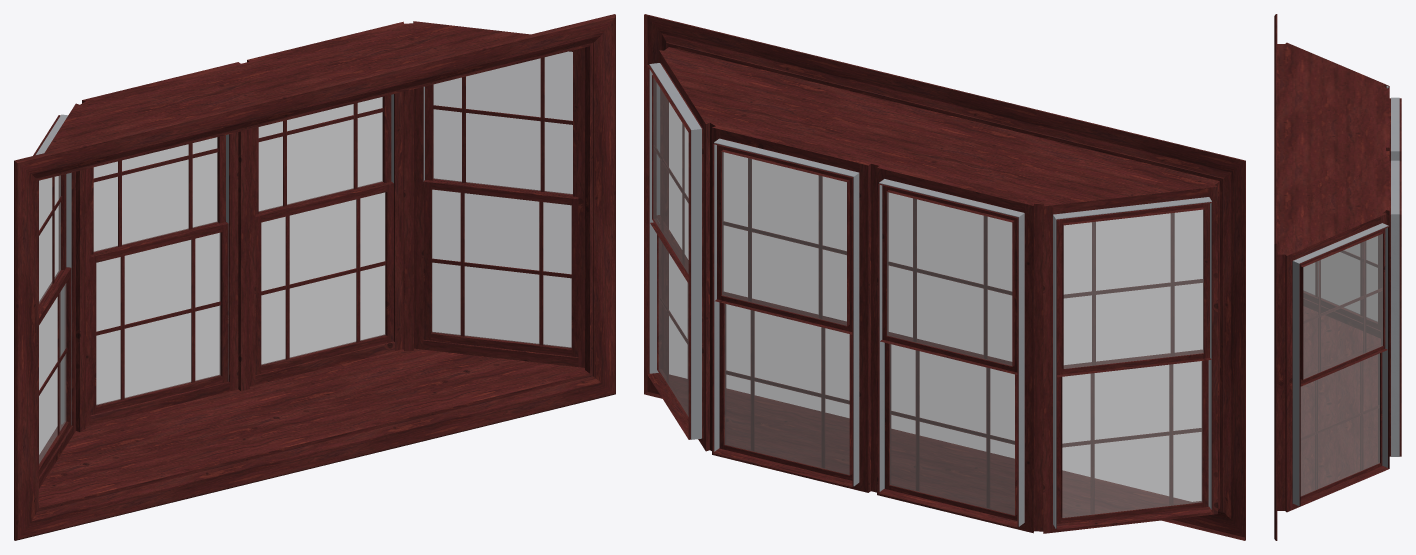
Rendered from bay_window_interior.glb.
The picture shows the model from 3 angles, left to right: view 1: azimuth 30°, elevation 25°; view 2: azimuth 150°, elevation 25°; view 3: azimuth 270°, elevation 25°; orthographic projection. The views are drawn at different scales.
Visible parts, largest first — view 1: Material2 (×3); view 2: Material2 (×3); view 3: Material2 (×3).
Part boxes in pixels (<box>): Material2 (×3): <box>14,14,615,540</box>; Material2 (×3): <box>644,14,1245,540</box>; Material2 (×3): <box>1274,14,1401,540</box>.
Bounding box in the file's own units: 138 × 83.5 × 32.35.
Materials: 3 (2 with a texture image).
